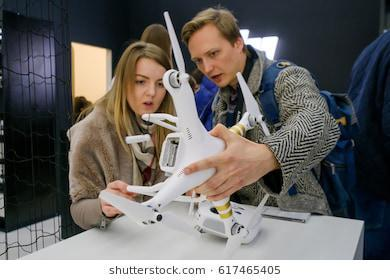drone: (90, 0, 280, 258)
